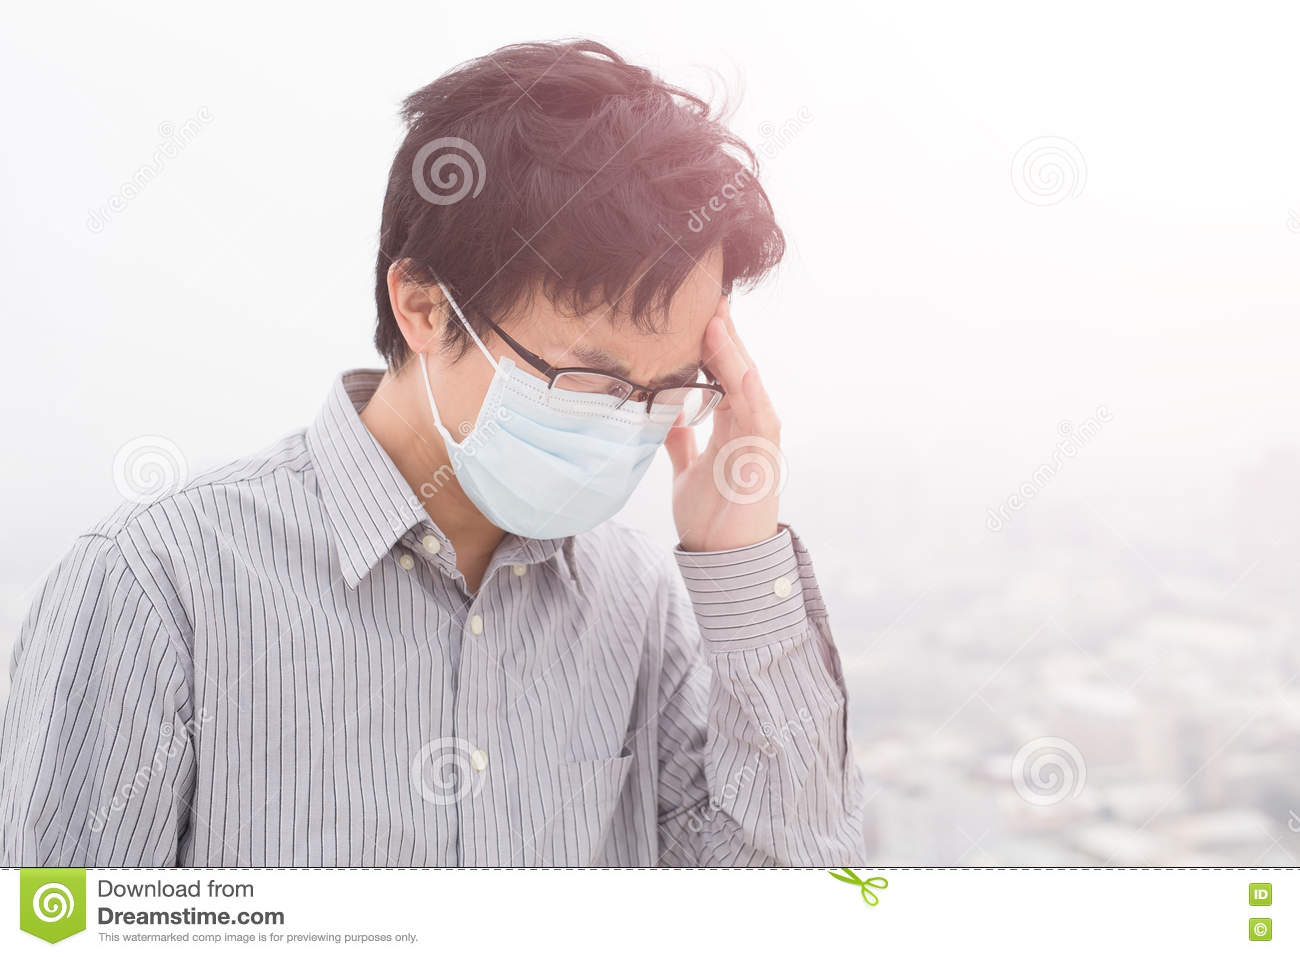mask: (444, 363, 686, 537)
